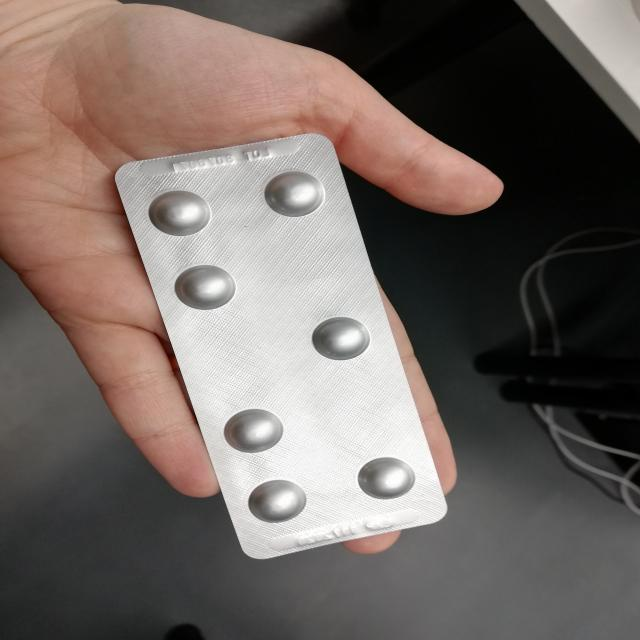Pill: (145, 186, 214, 239), (257, 169, 329, 219), (170, 261, 240, 312), (220, 406, 288, 455), (307, 313, 373, 363), (244, 476, 310, 524), (353, 454, 418, 502)
